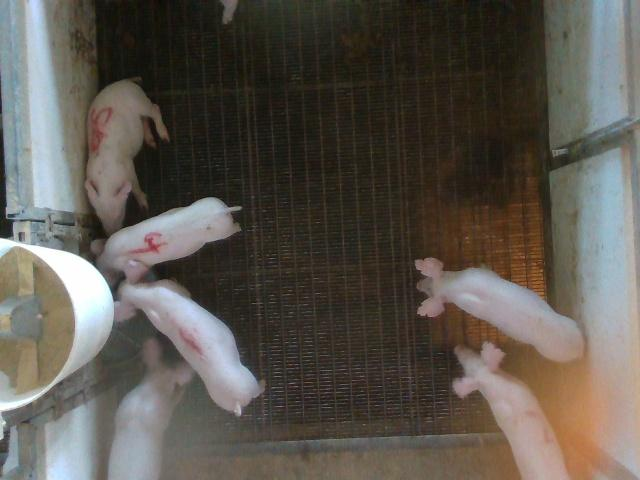pig-1: (115, 259, 264, 414), (452, 341, 569, 478)
pig-4: (98, 198, 241, 272)
pig-5: (85, 78, 170, 234)
